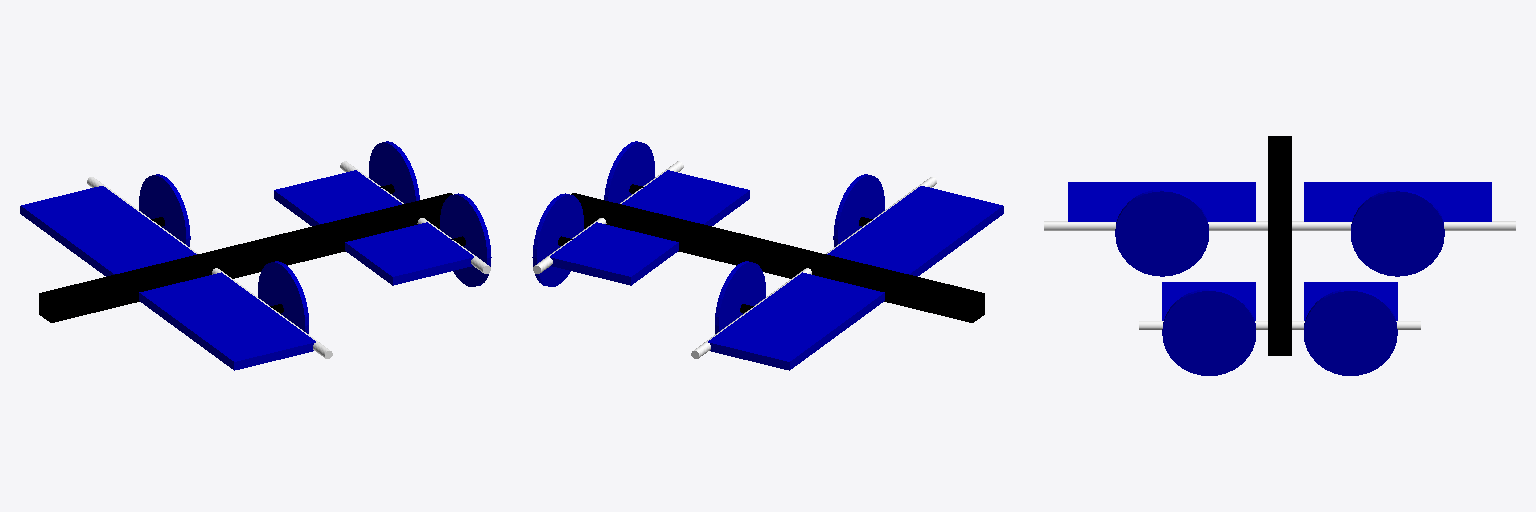
The robot description file, URDF, robot "quad_tilt_wing":
<?xml version="1.0" ?>
<!-- =================================================================================== -->
<!-- |    This document was autogenerated by xacro from quad_tilt_wing_rviz.urdf.xacro | -->
<!-- |    EDITING THIS FILE BY HAND IS NOT RECOMMENDED                                 | -->
<!-- =================================================================================== -->
<robot name="quad_tilt_wing" xmlns:xacro="http://ros.org/wiki/xacro">
  <!--
  <xacro:property name="pi" value="3.1415926"/>
-->
  <material name="blue">
    <color rgba="0 0 0.8 1"/>
  </material>
  <material name="black">
    <color rgba="0 0 0 1"/>
  </material>
  <material name="white">
    <color rgba="1 1 1 1"/>
  </material>
  <material name="blue_trans">
    <color rgba="0 0 0.8 0.5"/>
  </material>
  <link name="base_link">
    <visual>
      <geometry>
        <box size="1 0.05 0.05"/>
      </geometry>
      <material name="black"/>
    </visual>
  </link>
  <link name="fuselage">
    <visual>
      <geometry>
        <box size="1 0.05 0.05"/>
      </geometry>
      <material name="black"/>
    </visual>
  </link>
  <joint name="base_to_fuselage" type="fixed">
    <parent link="base_link"/>
    <child link="fuselage"/>
    <origin xyz="0 0 0"/>
  </joint>
  <link name="wing_1_rod">
    <visual>
      <geometry>
        <cylinder length="0.3" radius="0.01"/>
      </geometry>
      <origin rpy="1.57079632679 0 0" xyz="0 0.15 0"/>
      <material name="white"/>
    </visual>
  </link>
  <joint name="wing_1_joint" type="revolute">
    <axis xyz="0 -1 0"/>
    <limit effort="1000.0" lower="-0.523598775598" upper="2.09439510239" velocity="0.5"/>
    <parent link="fuselage"/>
    <child link="wing_1_rod"/>
    <origin xyz="0.4 0 0"/>
  </joint>
  <link name="wing_1_wing">
    <visual>
      <geometry>
        <box size="0.2 0.2 0.02"/>
      </geometry>
      <origin rpy="0 0 0" xyz="-0.1 0 0"/>
      <material name="blue"/>
    </visual>
  </link>
  <joint name="wing_1_wing_to_rod" type="fixed">
    <parent link="wing_1_rod"/>
    <child link="wing_1_wing"/>
    <origin xyz="0 0.15 0"/>
  </joint>
  <link name="wing_1_motor">
    <visual>
      <geometry>
        <cylinder length="0.03" radius="0.01"/>
      </geometry>
      <origin rpy="0 1.57079632679 0" xyz="0.015 0 0"/>
      <material name="black"/>
    </visual>
  </link>
  <joint name="wing_1_motor_to_rod" type="fixed">
    <parent link="wing_1_rod"/>
    <child link="wing_1_motor"/>
    <origin xyz="0 0.15 0"/>
  </joint>
  <link name="wing_1_prop">
    <visual>
      <geometry>
        <cylinder length="0.01" radius="0.1"/>
      </geometry>
      <origin rpy="0 1.57079632679 0" xyz="0.005 0 0"/>
      <material name="blue_trans"/>
    </visual>
  </link>
  <joint name="wing_1_prop_to_motor" type="fixed">
    <parent link="wing_1_motor"/>
    <child link="wing_1_prop"/>
    <origin xyz="0.03 0 0"/>
  </joint>
  <link name="wing_2_rod">
    <visual>
      <geometry>
        <cylinder length="0.3" radius="0.01"/>
      </geometry>
      <origin rpy="1.57079632679 0 0" xyz="0 -0.15 0"/>
      <material name="white"/>
    </visual>
  </link>
  <joint name="wing_2_joint" type="revolute">
    <axis xyz="0 -1 0"/>
    <limit effort="1000.0" lower="-0.523598775598" upper="2.09439510239" velocity="0.5"/>
    <parent link="fuselage"/>
    <child link="wing_2_rod"/>
    <origin xyz="0.4 0 0"/>
  </joint>
  <link name="wing_2_wing">
    <visual>
      <geometry>
        <box size="0.2 0.2 0.02"/>
      </geometry>
      <origin rpy="0 0 0" xyz="-0.1 0 0"/>
      <material name="blue"/>
    </visual>
  </link>
  <joint name="wing_2_wing_to_rod" type="fixed">
    <parent link="wing_2_rod"/>
    <child link="wing_2_wing"/>
    <origin xyz="0 -0.15 0"/>
  </joint>
  <link name="wing_2_motor">
    <visual>
      <geometry>
        <cylinder length="0.03" radius="0.01"/>
      </geometry>
      <origin rpy="0 1.57079632679 0" xyz="0.015 0 0"/>
      <material name="black"/>
    </visual>
  </link>
  <joint name="wing_2_motor_to_rod" type="fixed">
    <parent link="wing_2_rod"/>
    <child link="wing_2_motor"/>
    <origin xyz="0 -0.15 0"/>
  </joint>
  <link name="wing_2_prop">
    <visual>
      <geometry>
        <cylinder length="0.01" radius="0.1"/>
      </geometry>
      <origin rpy="0 1.57079632679 0" xyz="0.005 0 0"/>
      <material name="blue_trans"/>
    </visual>
  </link>
  <joint name="wing_2_prop_to_motor" type="fixed">
    <parent link="wing_2_motor"/>
    <child link="wing_2_prop"/>
    <origin xyz="0.03 0 0"/>
  </joint>
  <link name="wing_3_rod">
    <visual>
      <geometry>
        <cylinder length="0.5" radius="0.01"/>
      </geometry>
      <origin rpy="1.57079632679 0 0" xyz="0 0.25 0"/>
      <material name="white"/>
    </visual>
  </link>
  <joint name="wing_3_joint" type="revolute">
    <axis xyz="0 -1 0"/>
    <limit effort="1000.0" lower="-0.523598775598" upper="2.09439510239" velocity="0.5"/>
    <parent link="fuselage"/>
    <child link="wing_3_rod"/>
    <origin xyz="-0.1 0 0"/>
  </joint>
  <link name="wing_3_wing">
    <visual>
      <geometry>
        <box size="0.2 0.4 0.02"/>
      </geometry>
      <origin rpy="0 0 0" xyz="-0.1 0 0"/>
      <material name="blue"/>
    </visual>
  </link>
  <joint name="wing_3_wing_to_rod" type="fixed">
    <parent link="wing_3_rod"/>
    <child link="wing_3_wing"/>
    <origin xyz="0 0.25 0"/>
  </joint>
  <link name="wing_3_motor">
    <visual>
      <geometry>
        <cylinder length="0.03" radius="0.01"/>
      </geometry>
      <origin rpy="0 1.57079632679 0" xyz="0.015 0 0"/>
      <material name="black"/>
    </visual>
  </link>
  <joint name="wing_3_motor_to_rod" type="fixed">
    <parent link="wing_3_rod"/>
    <child link="wing_3_motor"/>
    <origin xyz="0 0.25 0"/>
  </joint>
  <link name="wing_3_prop">
    <visual>
      <geometry>
        <cylinder length="0.01" radius="0.1"/>
      </geometry>
      <origin rpy="0 1.57079632679 0" xyz="0.005 0 0"/>
      <material name="blue_trans"/>
    </visual>
  </link>
  <joint name="wing_3_prop_to_motor" type="fixed">
    <parent link="wing_3_motor"/>
    <child link="wing_3_prop"/>
    <origin xyz="0.03 0 0"/>
  </joint>
  <link name="wing_4_rod">
    <visual>
      <geometry>
        <cylinder length="0.5" radius="0.01"/>
      </geometry>
      <origin rpy="1.57079632679 0 0" xyz="0 -0.25 0"/>
      <material name="white"/>
    </visual>
  </link>
  <joint name="wing_4_joint" type="revolute">
    <axis xyz="0 -1 0"/>
    <limit effort="1000.0" lower="-0.523598775598" upper="2.09439510239" velocity="0.5"/>
    <parent link="fuselage"/>
    <child link="wing_4_rod"/>
    <origin xyz="-0.1 0 0"/>
  </joint>
  <link name="wing_4_wing">
    <visual>
      <geometry>
        <box size="0.2 0.4 0.02"/>
      </geometry>
      <origin rpy="0 0 0" xyz="-0.1 0 0"/>
      <material name="blue"/>
    </visual>
  </link>
  <joint name="wing_4_wing_to_rod" type="fixed">
    <parent link="wing_4_rod"/>
    <child link="wing_4_wing"/>
    <origin xyz="0 -0.25 0"/>
  </joint>
  <link name="wing_4_motor">
    <visual>
      <geometry>
        <cylinder length="0.03" radius="0.01"/>
      </geometry>
      <origin rpy="0 1.57079632679 0" xyz="0.015 0 0"/>
      <material name="black"/>
    </visual>
  </link>
  <joint name="wing_4_motor_to_rod" type="fixed">
    <parent link="wing_4_rod"/>
    <child link="wing_4_motor"/>
    <origin xyz="0 -0.25 0"/>
  </joint>
  <link name="wing_4_prop">
    <visual>
      <geometry>
        <cylinder length="0.01" radius="0.1"/>
      </geometry>
      <origin rpy="0 1.57079632679 0" xyz="0.005 0 0"/>
      <material name="blue_trans"/>
    </visual>
  </link>
  <joint name="wing_4_prop_to_motor" type="fixed">
    <parent link="wing_4_motor"/>
    <child link="wing_4_prop"/>
    <origin xyz="0.03 0 0"/>
  </joint>
</robot>

--- Facts derived from the render (not from the file) ---
Views: 3 orthographic renders of the robot side by side, from view 1: azimuth 30°, elevation 25°; view 2: azimuth 150°, elevation 25°; view 3: azimuth 270°, elevation 25°.
Robot: quad_tilt_wing — 18 links, 17 joints (4 revolute, 13 fixed); root link base_link; default pose: all joints at 0.
Visible links, largest first — view 1: base_link, wing_4_wing, wing_3_wing, wing_2_wing, wing_1_wing, wing_2_prop, wing_4_prop, wing_3_prop, wing_1_prop; view 2: base_link, wing_3_wing, wing_4_wing, wing_1_wing, wing_2_wing, wing_1_prop, wing_3_prop, wing_4_prop, wing_2_prop; view 3: wing_1_prop, wing_2_prop, wing_3_prop, wing_4_prop, wing_3_wing, wing_4_wing, base_link, wing_1_wing, wing_2_wing, wing_3_rod, wing_4_rod.
Boxes of the visible links, <box> form: base_link: <box>39,193,452,322</box>; wing_4_wing: <box>139,272,315,370</box>; wing_3_wing: <box>20,186,196,276</box>; wing_2_wing: <box>345,222,473,285</box>; wing_1_wing: <box>274,170,401,225</box>; wing_2_prop: <box>440,193,491,286</box>; wing_4_prop: <box>258,261,308,333</box>; wing_3_prop: <box>139,174,190,246</box>; wing_1_prop: <box>369,141,419,203</box>; base_link: <box>571,193,984,322</box>; wing_3_wing: <box>708,272,884,370</box>; wing_4_wing: <box>827,186,1003,276</box>; wing_1_wing: <box>550,222,678,285</box>; wing_2_wing: <box>622,170,749,225</box>; wing_1_prop: <box>532,193,583,286</box>; wing_3_prop: <box>715,261,765,333</box>; wing_4_prop: <box>833,174,884,246</box>; wing_2_prop: <box>604,141,654,203</box>; wing_1_prop: <box>1304,289,1397,375</box>; wing_2_prop: <box>1162,289,1255,375</box>; wing_3_prop: <box>1351,189,1444,276</box>; wing_4_prop: <box>1115,189,1208,276</box>; wing_3_wing: <box>1304,182,1491,221</box>; wing_4_wing: <box>1068,182,1255,221</box>; base_link: <box>1268,136,1291,355</box>; wing_1_wing: <box>1304,282,1397,320</box>; wing_2_wing: <box>1162,282,1255,320</box>; wing_3_rod: <box>1292,221,1515,230</box>; wing_4_rod: <box>1044,221,1267,230</box>.
Size in the robot's own frame: 1 by 1 by 0.2 metres.
Geometry: primitives only (box / cylinder / sphere), no mesh files.